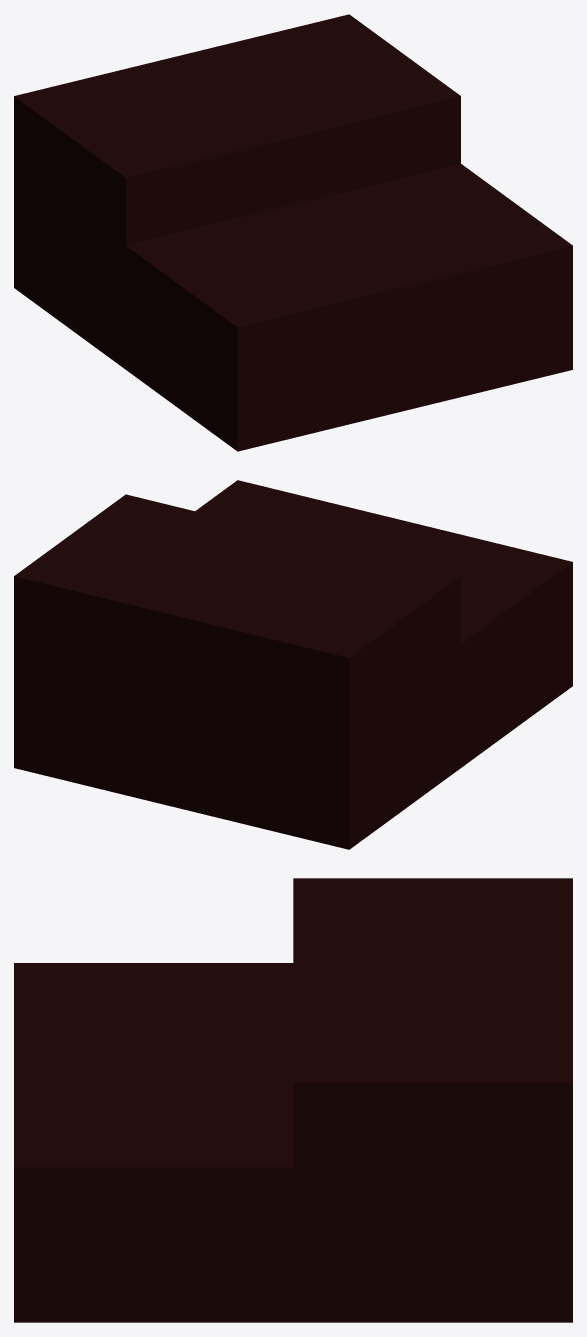
File: asset.glb
3 views of the same model, one above another, from view 1: azimuth 30°, elevation 25°; view 2: azimuth 150°, elevation 25°; view 3: azimuth 270°, elevation 25° (orthographic). The views are drawn at different scales.
Parts seen in each view (by area): view 1: imagetostl_mesh2, imagetostl_mesh1, imagetostl_mesh6, imagetostl_mesh3, imagetostl_mesh7; view 2: imagetostl_mesh4, imagetostl_mesh1, imagetostl_mesh3, imagetostl_mesh6; view 3: imagetostl_mesh5, imagetostl_mesh1, imagetostl_mesh6.
Boxes of the visible parts, x1,y1,x2,y2 form: imagetostl_mesh2: [237, 245, 572, 451]; imagetostl_mesh1: [14, 14, 460, 177]; imagetostl_mesh6: [126, 164, 572, 327]; imagetostl_mesh3: [14, 96, 237, 451]; imagetostl_mesh7: [126, 96, 460, 245]; imagetostl_mesh4: [14, 576, 349, 849]; imagetostl_mesh1: [14, 494, 460, 657]; imagetostl_mesh3: [349, 562, 572, 849]; imagetostl_mesh6: [195, 480, 572, 643]; imagetostl_mesh5: [14, 1083, 572, 1322]; imagetostl_mesh1: [293, 878, 572, 1082]; imagetostl_mesh6: [14, 963, 293, 1167].
Bounding box in the file's own units: 127 × 69.29 × 146.
